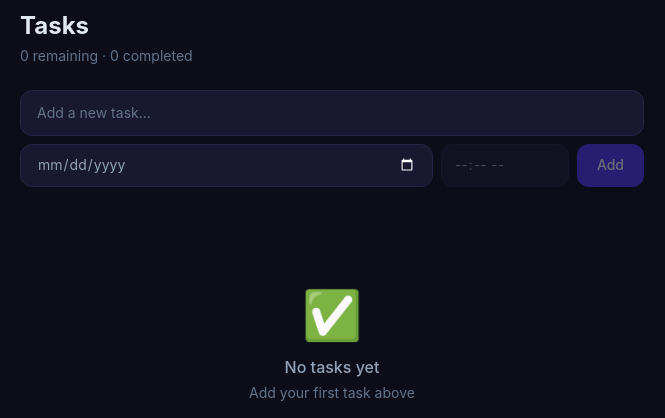
Test: TasksPage — due date › adds a task with a due date and shows it
Type "Doctor" into the field with placeholder "Add a new task…". click: (332,113)
box: [20,90,644,136]
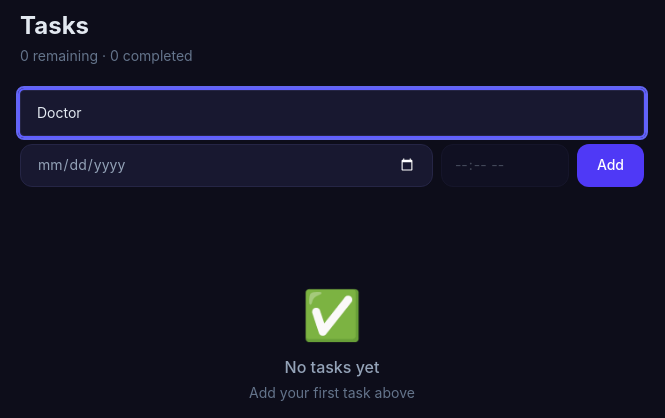
Type "2026-03-08" into the date field named "Due date". click: (226,165)
box: [20,144,433,187]
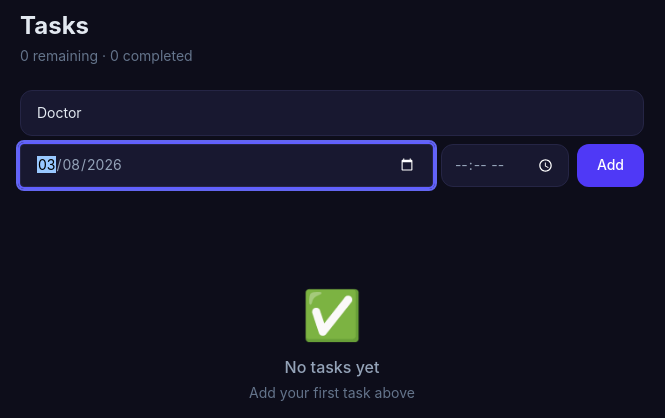
Type "09:00" into the time field named "Due time". click: (505,165)
box: [441,144,569,187]
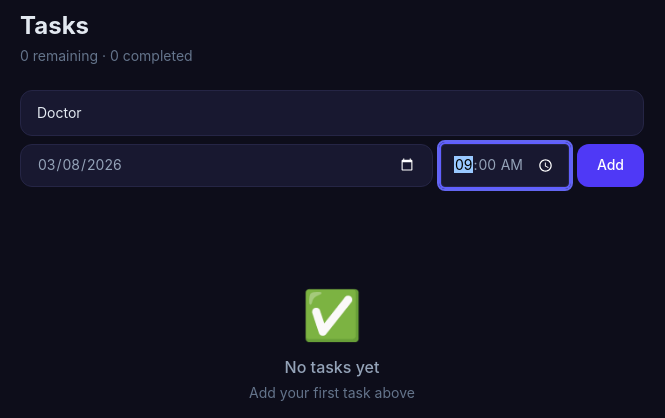
Click the button with aria-label "add task". click: (610,165)
box: [577,144,644,187]
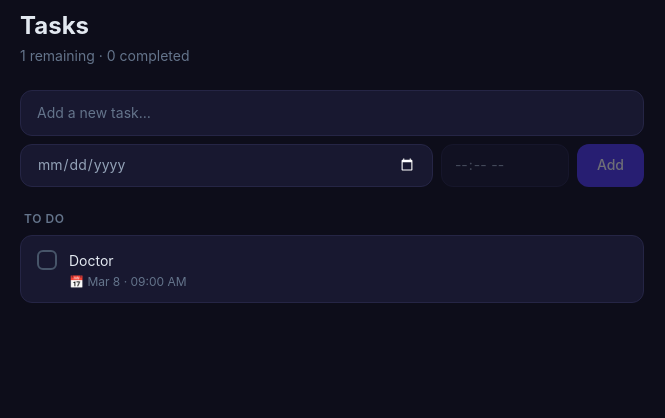
Expected: the text "Doctor" is shown, [69,252,114,269]
Expected: the text "📅 Mar 8 · 09:00 AM" is shown, [69,274,187,289]
